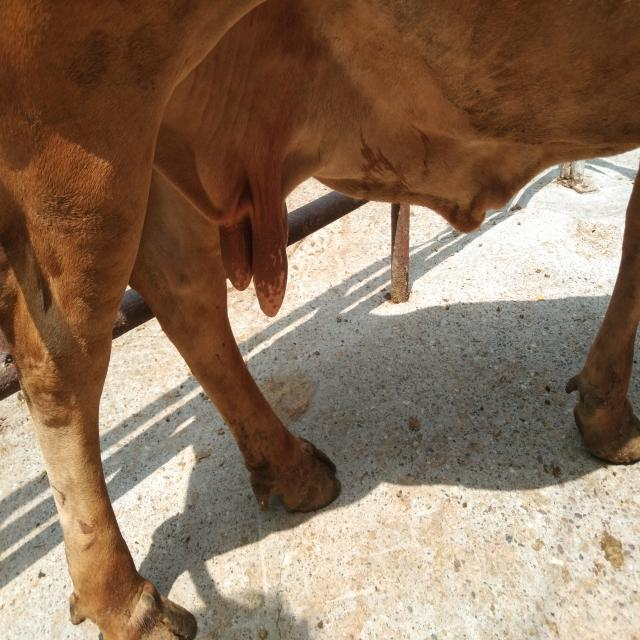Hoof: (250, 435, 341, 514), (565, 371, 639, 465)
